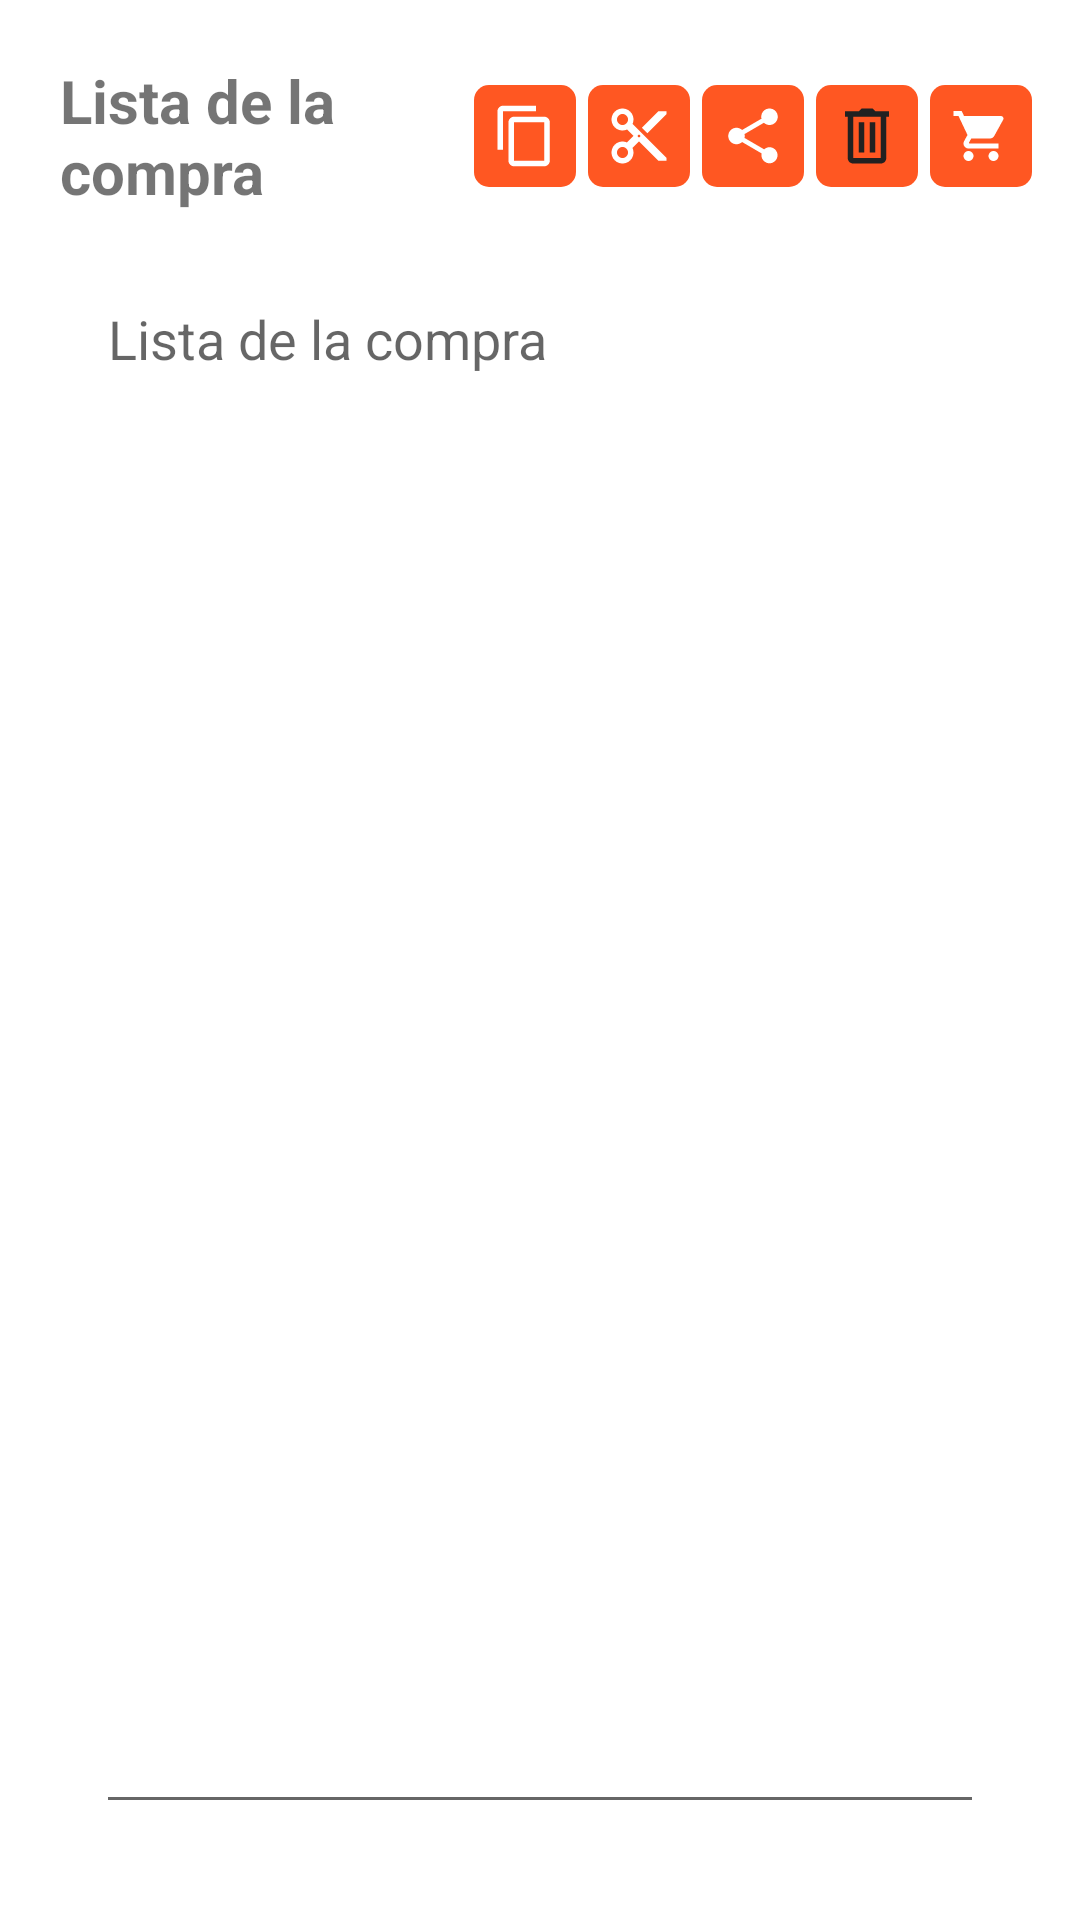

Icons on this 1080w x 1920h Android screen, each with the point to tap as (x,y):
Borrar lista: (867,136)
Compartir lista: (753,136)
Copiar lista: (525,136)
Cortar lista: (639,136)
